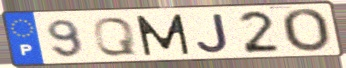2: (236, 9, 285, 56)
9: (44, 17, 85, 59)
J: (194, 12, 231, 55)
M: (133, 13, 193, 58)
O: (279, 7, 332, 54)
Q: (91, 16, 139, 58)
